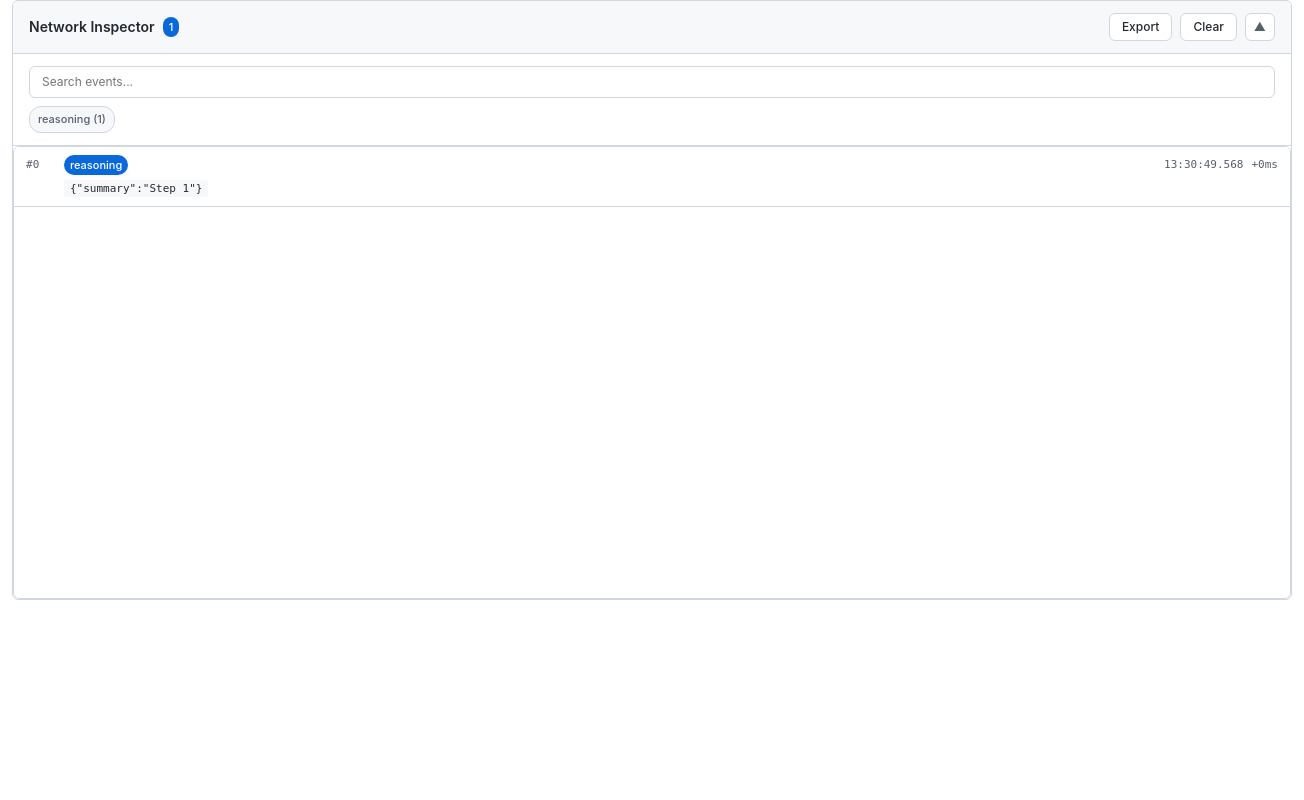
Test case: NetworkInspector › event filtering › should show empty state when search has no matches
Type "nonexistent" into the field with placeholder "Search events...".
click(652, 82); type("nonexistent")  # box x1=29 y1=66 x2=1275 y2=98
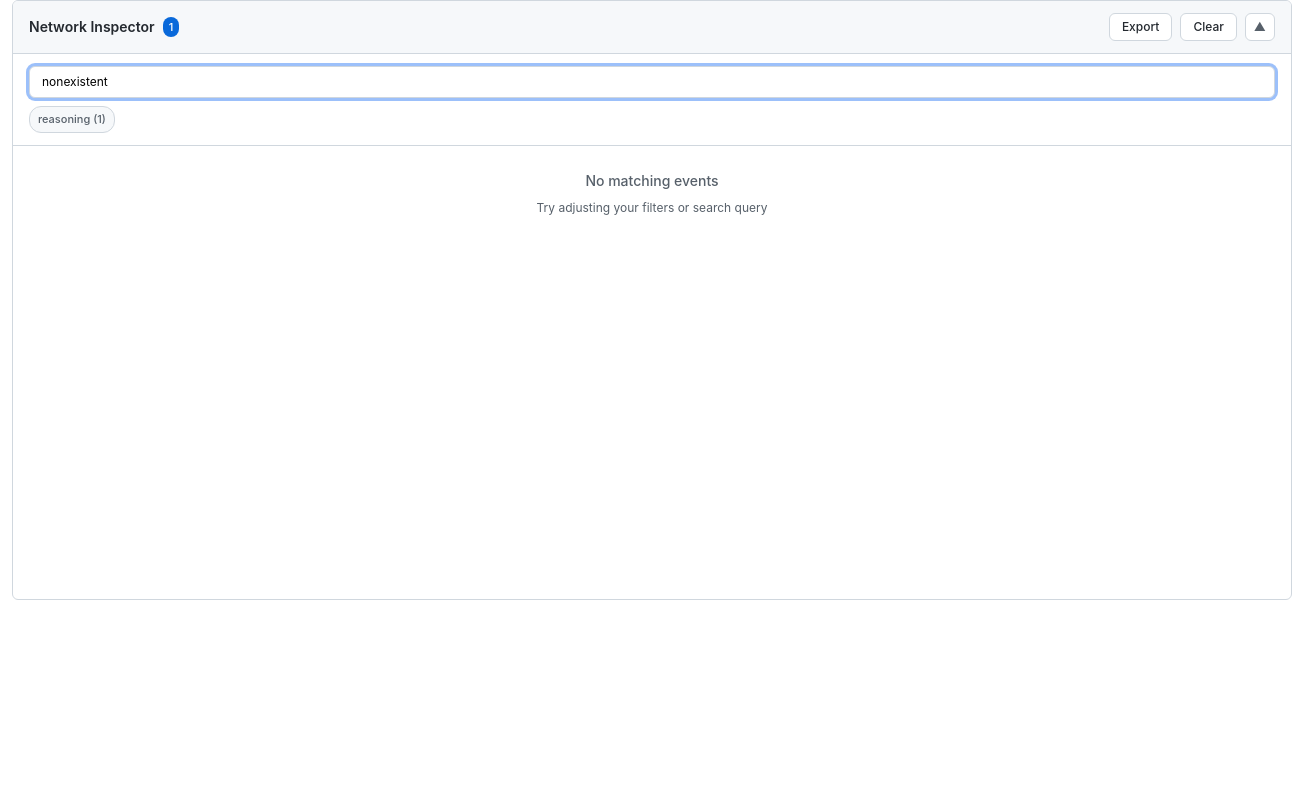
Expected: the text "No matching events" is shown, x1=585 y1=172 x2=719 y2=188
Expected: the text "Try adjusting your filters or search query" is shown, x1=536 y1=200 x2=767 y2=214
